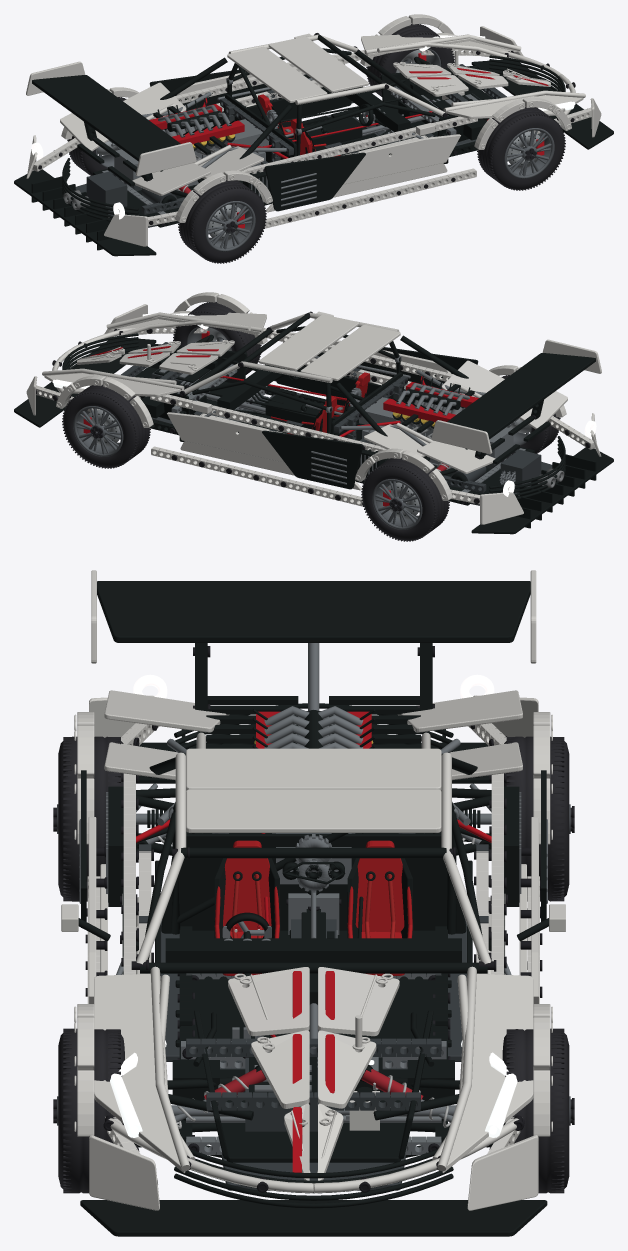
The picture shows the model from 3 angles, top to bottom: view 1: azimuth 30°, elevation 25°; view 2: azimuth 150°, elevation 25°; view 3: azimuth 270°, elevation 25°; orthographic projection. The views are drawn at different scales.
Visible parts, largest first — view 1: aleron_trasero, toma_lateral_izq, rueda_tras_izq, rueda_del_izq, puerta_izq, techo_1, techo_0, talonera_izq, splitter_del, cintura_izq, splitter_tras, difusor (+65 smaller); view 2: aleron_trasero, toma_lateral_der, rueda_tras_der, rueda_del_der, puerta_der, techo_1, techo_0, talonera_der, cintura_der, splitter_del, splitter_tras, difusor (+65 smaller); view 3: aleron_trasero, splitter_del, techo_1, techo_0, panel_mamparo, panel_aleta_del_der, panel_aleta_del_izq, salpicadero, cofre_delantero, paragolpes_del_der, paragolpes_del_izq, rueda_del_der (+70 smaller).
Boxes of the visible parts, <box> form: aleron_trasero: <box>32,75,180,161</box>; toma_lateral_izq: <box>264,152,365,211</box>; rueda_tras_izq: <box>178,180,266,263</box>; rueda_del_izq: <box>477,107,565,190</box>; puerta_izq: <box>343,134,460,184</box>; techo_1: <box>268,36,368,92</box>; techo_0: <box>227,46,327,102</box>; talonera_izq: <box>264,168,476,228</box>; splitter_del: <box>471,59,613,149</box>; cintura_izq: <box>241,116,477,173</box>; splitter_tras: <box>14,169,156,256</box>; difusor: <box>31,176,111,250</box>; aleron_trasero: <box>447,353,595,439</box>; toma_lateral_der: <box>262,430,363,489</box>; rueda_tras_der: <box>361,458,449,541</box>; rueda_del_der: <box>62,385,150,468</box>; puerta_der: <box>167,412,284,462</box>; techo_1: <box>259,314,359,370</box>; techo_0: <box>300,324,400,380</box>; talonera_der: <box>151,446,363,506</box>; cintura_der: <box>150,394,386,451</box>; splitter_del: <box>14,337,156,427</box>; splitter_tras: <box>471,447,613,534</box>; difusor: <box>516,454,596,528</box>; aleron_trasero: <box>97,581,530,642</box>; splitter_del: <box>80,1200,547,1236</box>; techo_1: <box>186,789,441,832</box>; techo_0: <box>186,748,441,790</box>; panel_mamparo: <box>161,833,466,933</box>; panel_aleta_del_der: <box>442,973,533,1172</box>; panel_aleta_del_izq: <box>94,973,185,1173</box>; salpicadero: <box>165,938,461,962</box>; cofre_delantero: <box>186,1038,441,1130</box>; paragolpes_del_der: <box>313,1115,538,1210</box>; paragolpes_del_izq: <box>89,1115,313,1210</box>; rueda_del_der: <box>502,1028,569,1193</box>.
Size of the model in its own units: 0.6 by 0.14 by 0.27.
